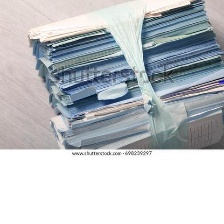book: (23, 0, 224, 149)
